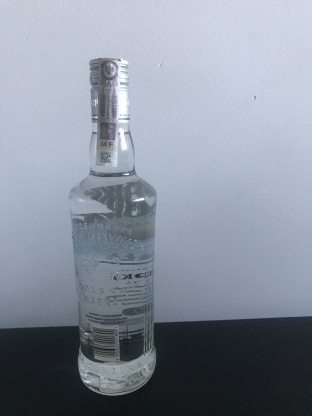nakretka: (86, 53, 132, 126)
